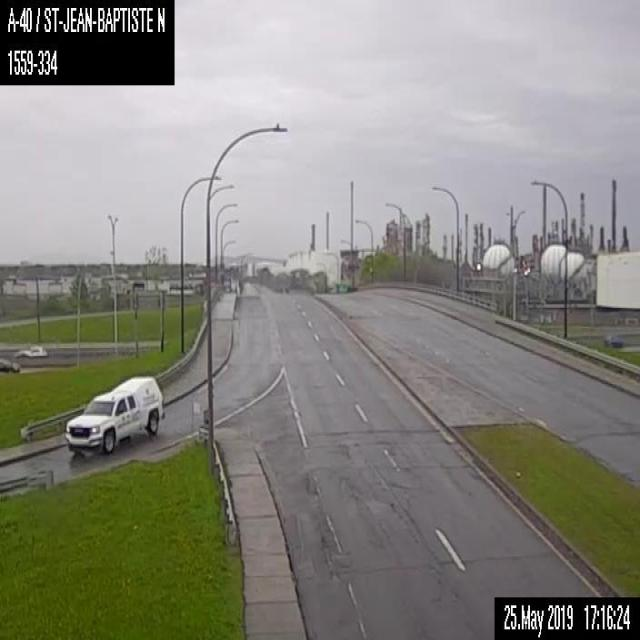vehicle: (64, 374, 164, 454), (13, 342, 49, 358), (0, 356, 21, 372)
